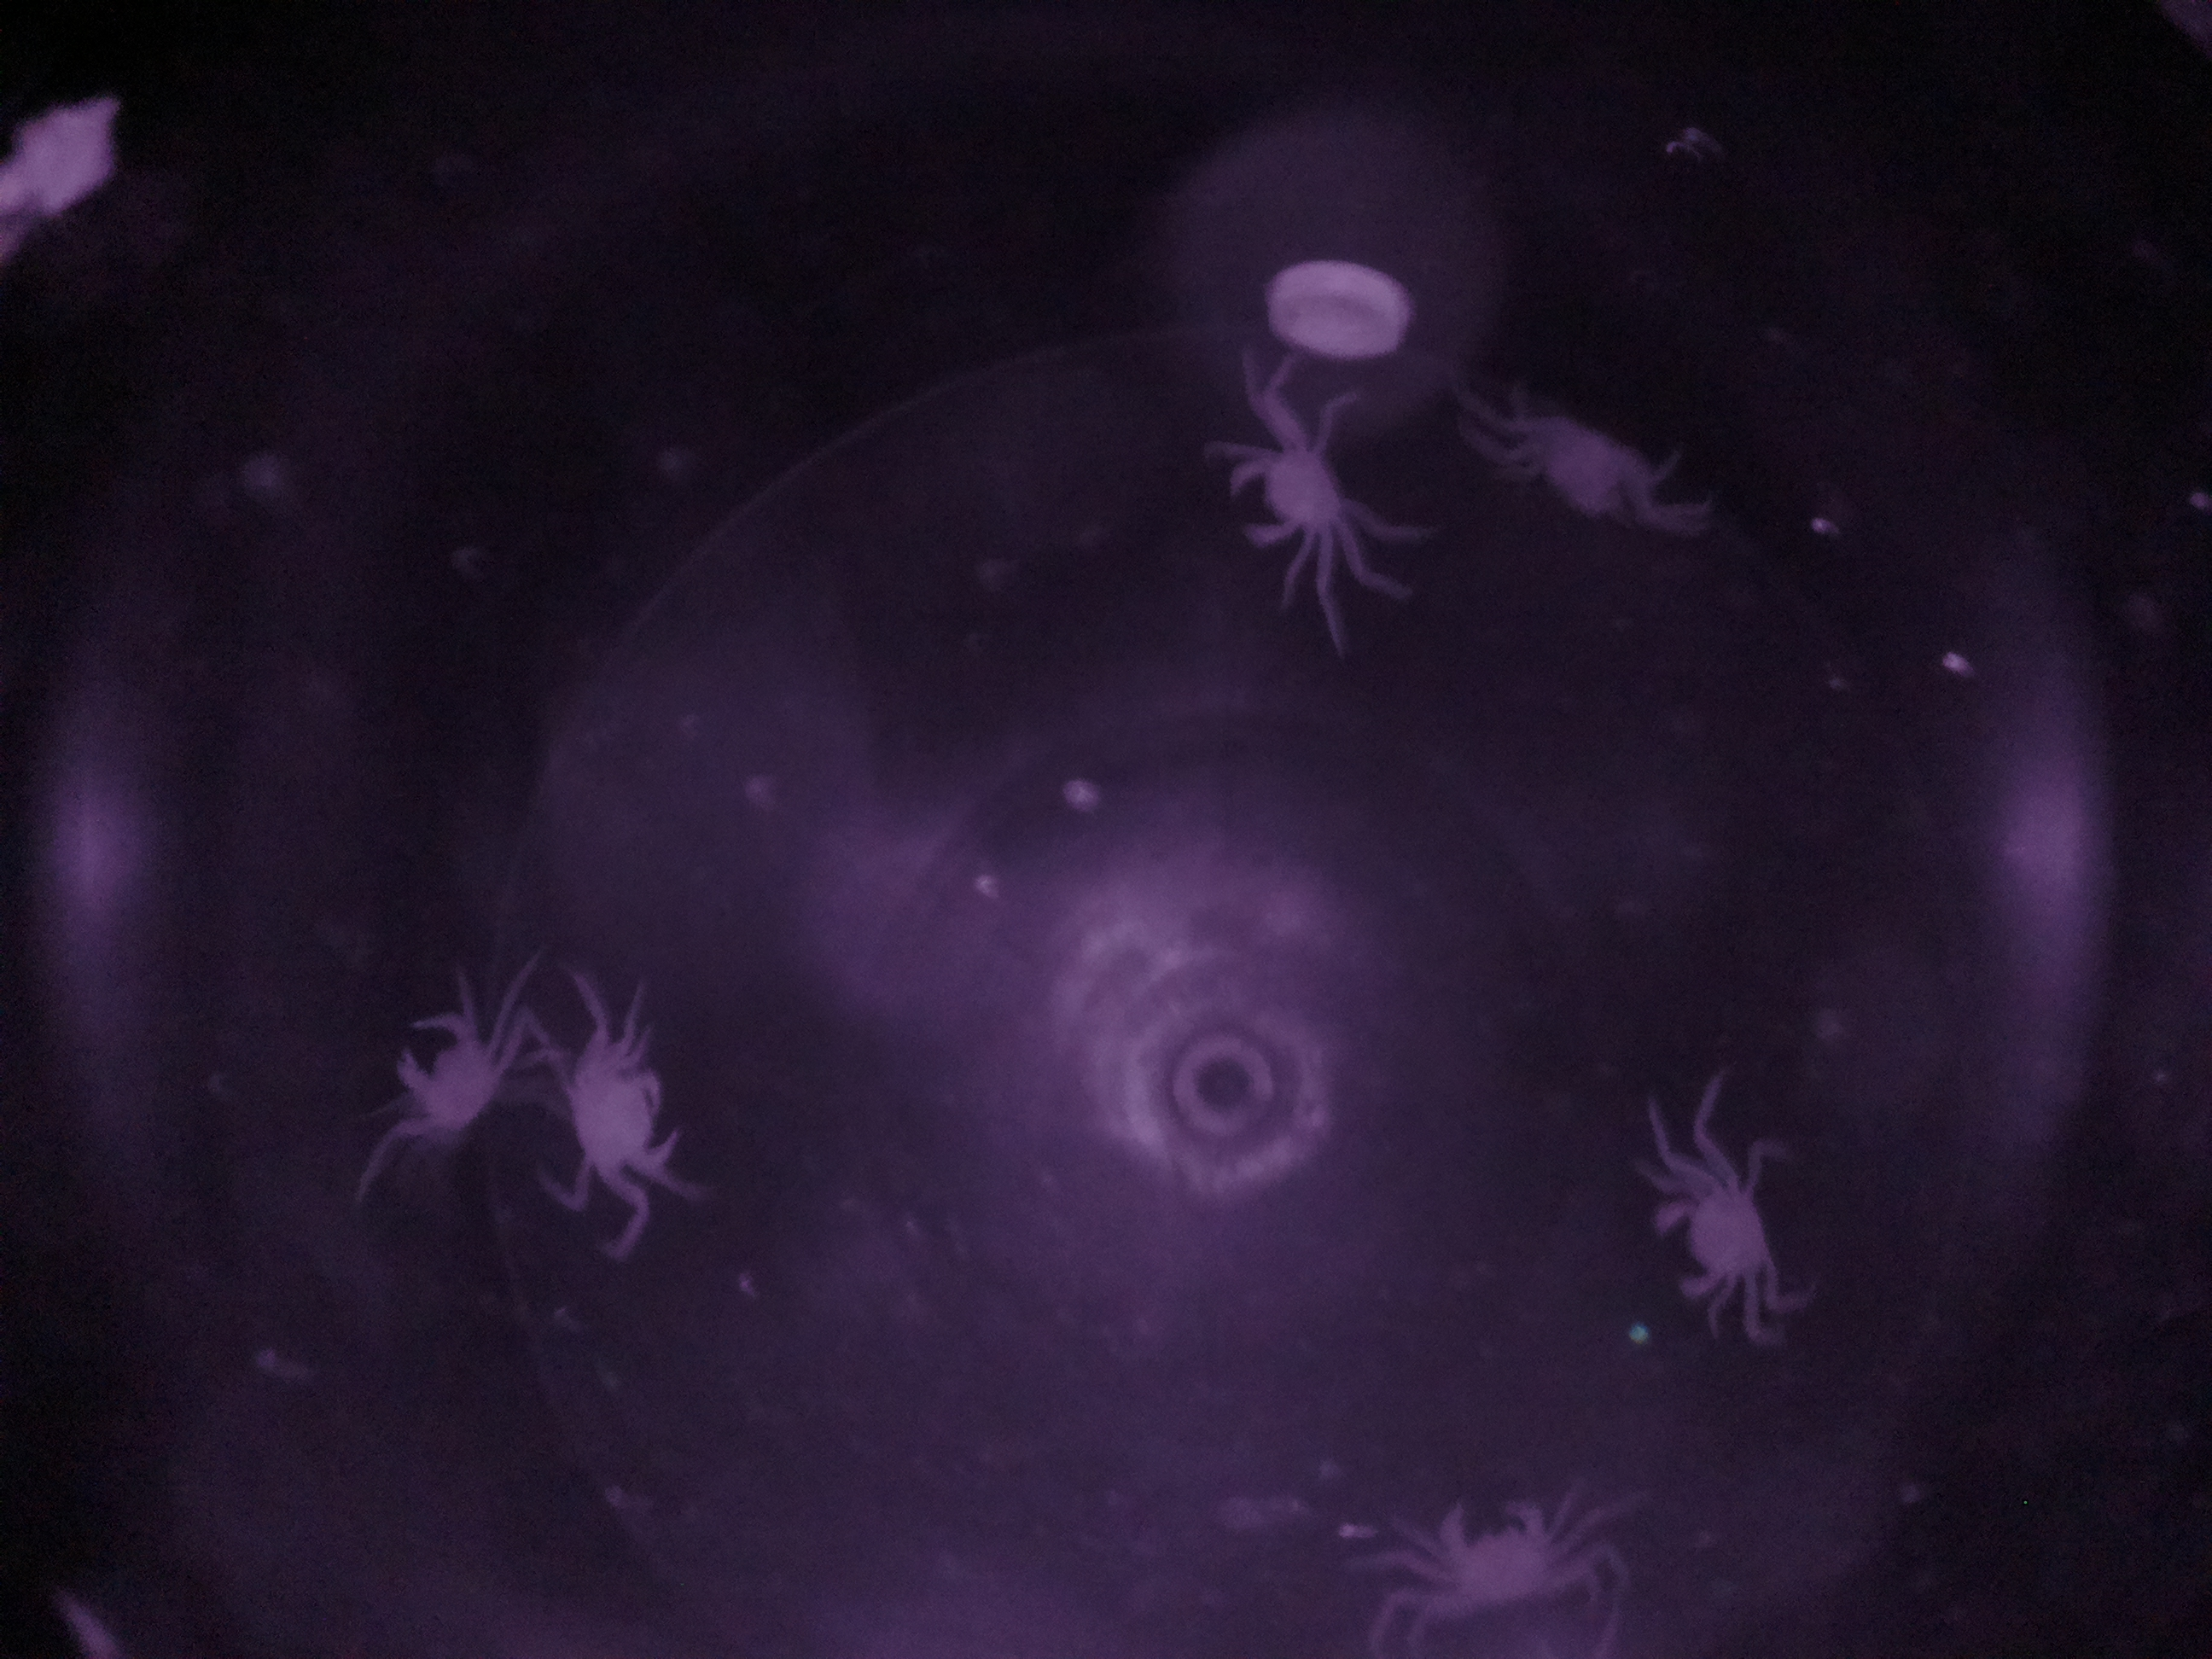Crab: (528, 1023, 685, 1220), (1411, 1471, 1583, 1640), (1649, 1122, 1792, 1319), (1209, 403, 1364, 573)
